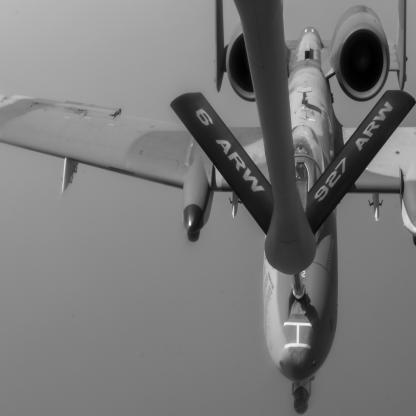A10: (1, 1, 416, 416)
